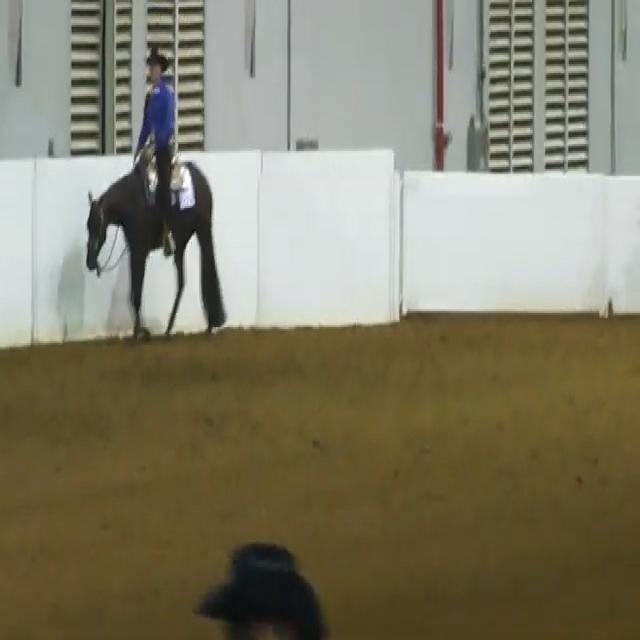horse: (81, 25, 239, 377)
